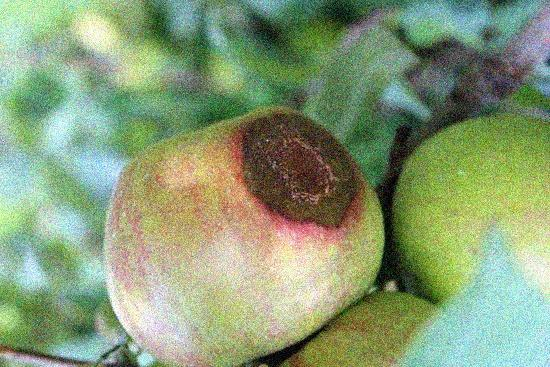rotten apple: (97, 102, 394, 366)
